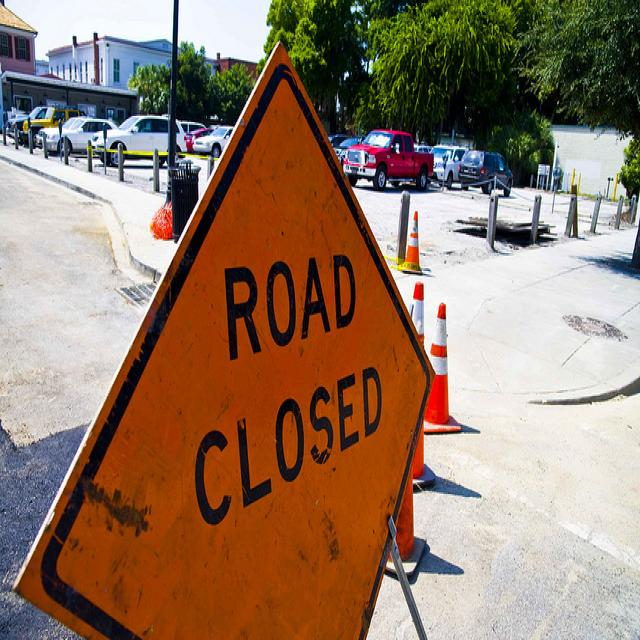Vehicle: (344, 128, 436, 192), (91, 114, 187, 167), (42, 117, 118, 156), (459, 150, 513, 197), (428, 144, 469, 190), (30, 107, 80, 138), (6, 106, 49, 139), (192, 126, 235, 158), (335, 135, 366, 168), (186, 126, 214, 152), (328, 134, 347, 162), (179, 120, 207, 132)
